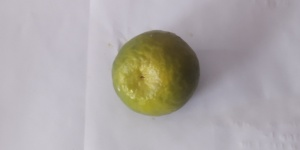BAD: (113, 27, 197, 116)
